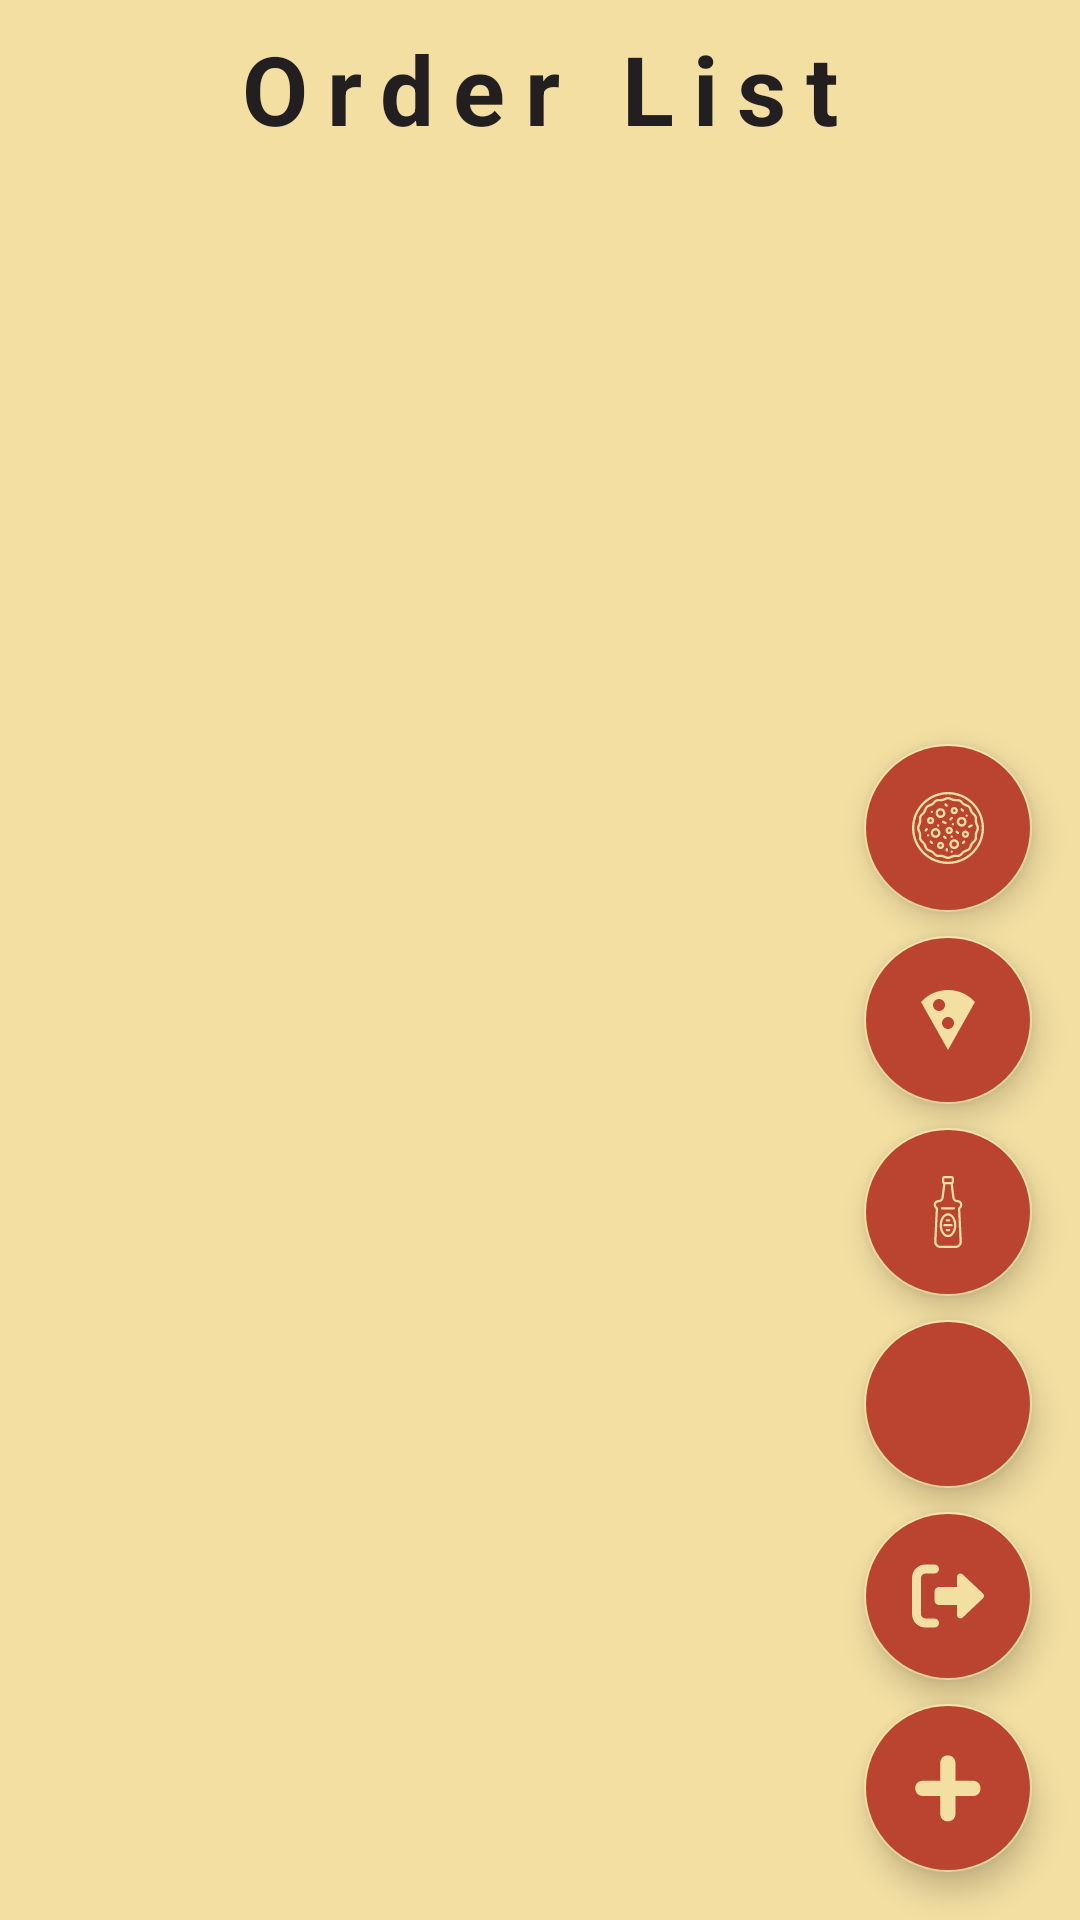

Icons on this 1080x1920 Android screen, each with the point to tap as point (x, y):
Main FAB: point (948, 1788)
Premade FAB: point (949, 829)
Toppings FAB: point (949, 1020)
